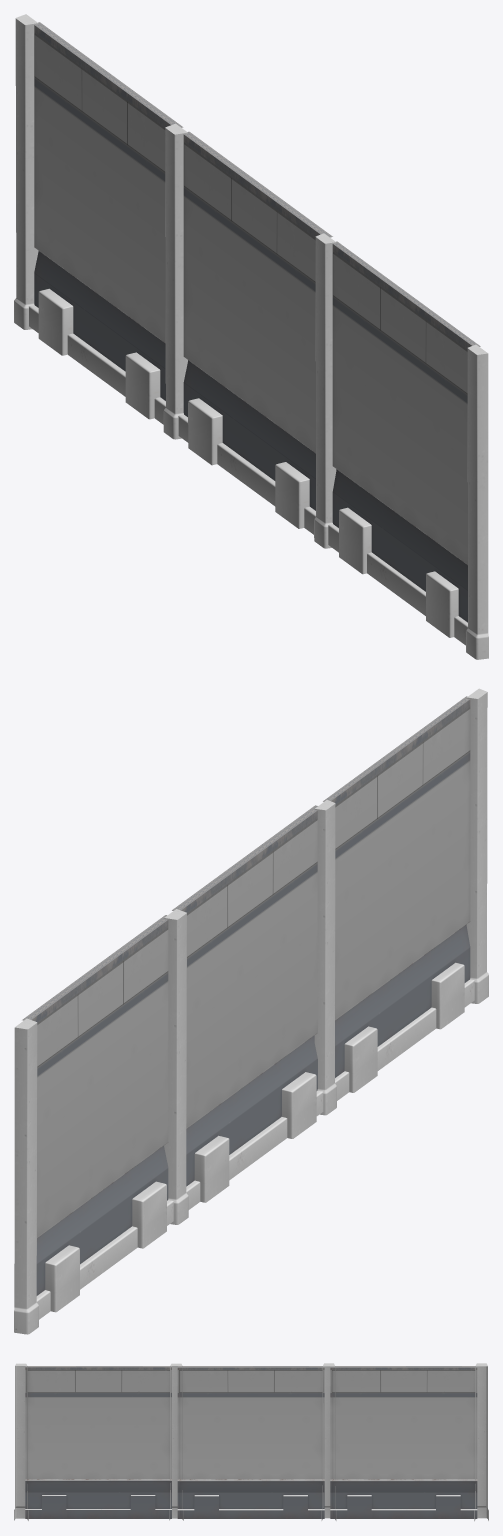
Rendered from Pfb_JALB_WallPart2_Line__9.fbx.
The picture shows the model from 3 angles, top to bottom: view 1: azimuth 30°, elevation 25°; view 2: azimuth 150°, elevation 25°; view 3: azimuth 270°, elevation 25°; orthographic projection. The views are drawn at different scales.
Parts seen in each view (by area): view 1: MAT_JLABWall; view 2: MAT_JLABWall; view 3: MAT_JLABWall.
Boxes of the visible parts, <box> form: MAT_JLABWall: <box>14,14,488,659</box>; MAT_JLABWall: <box>14,688,488,1334</box>; MAT_JLABWall: <box>14,1363,488,1521</box>.
Bounding box in the file's own units: 0.2512 × 4.04 × 11.2.
1 material, 1 textured.
